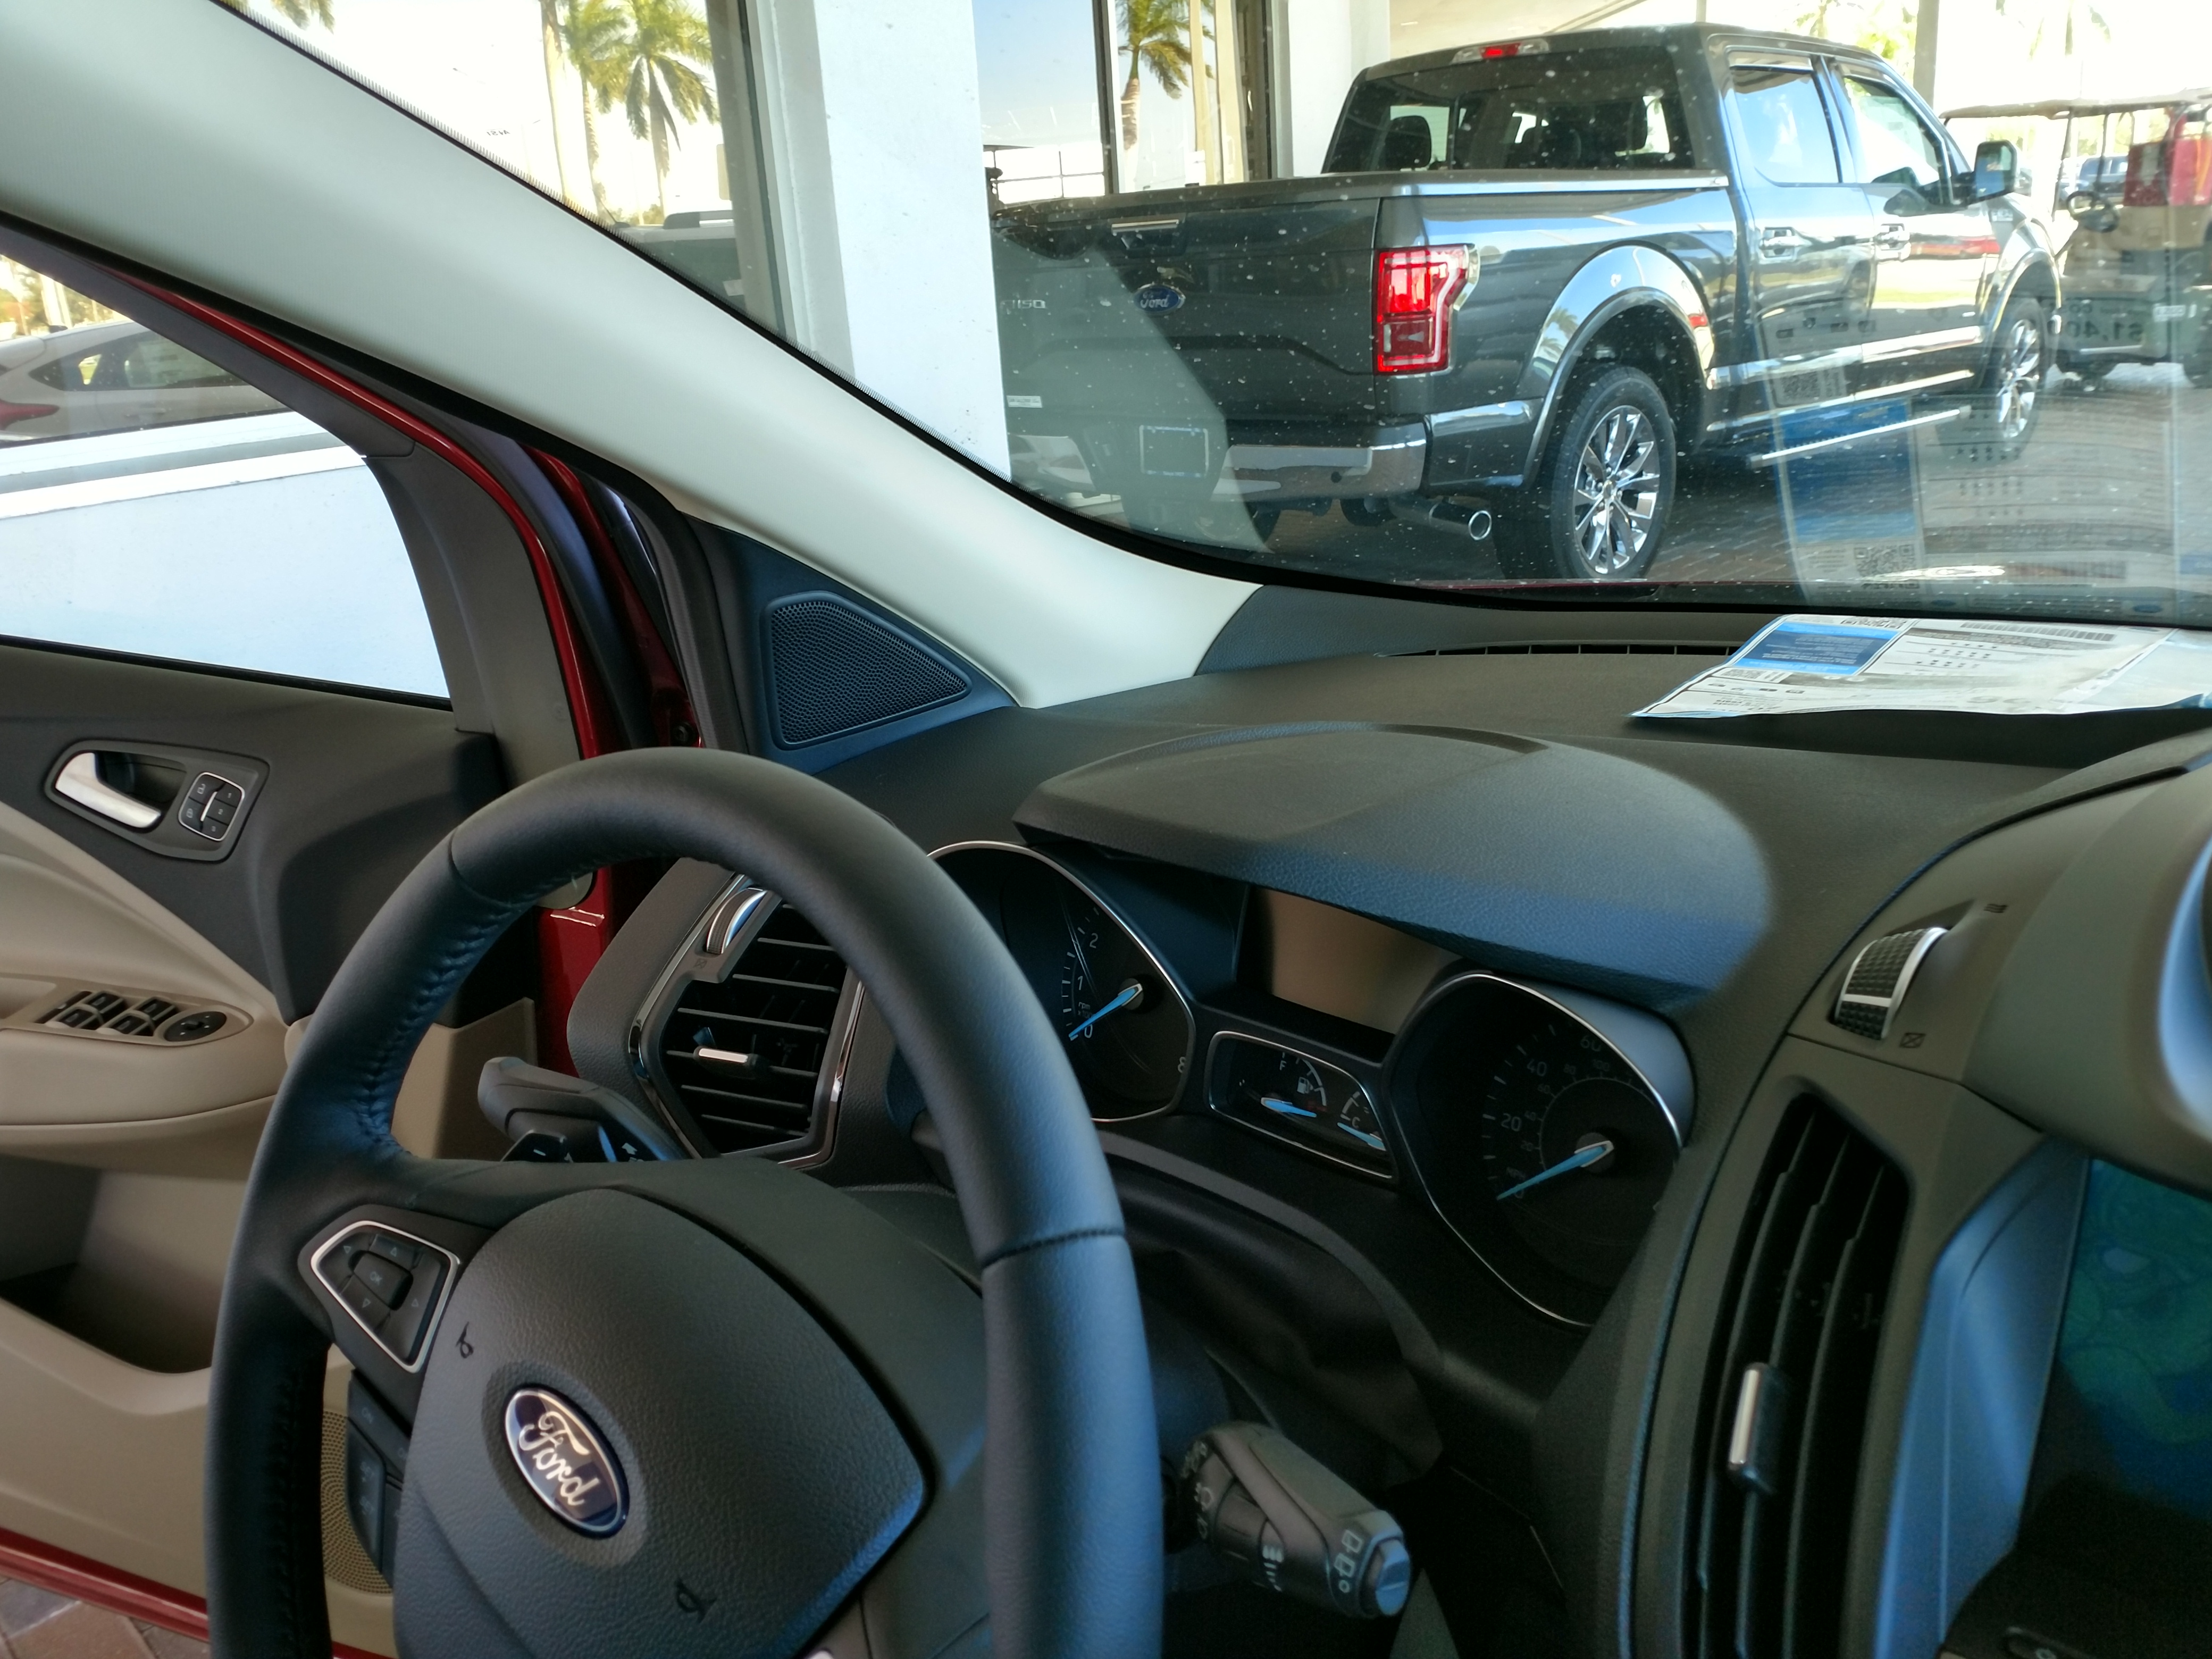Ford: (479, 1361, 636, 1563)
